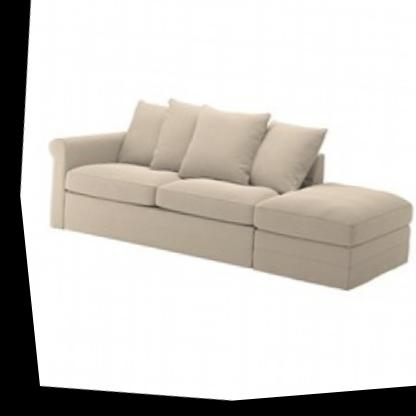Sofa: (14, 54, 416, 330)
